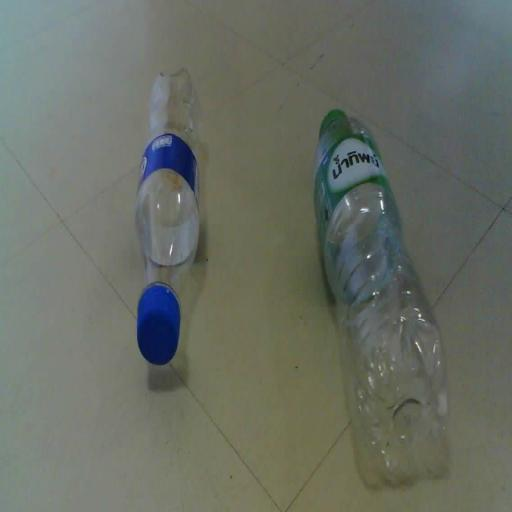bottle: (313, 108, 450, 493), (134, 72, 201, 369)
